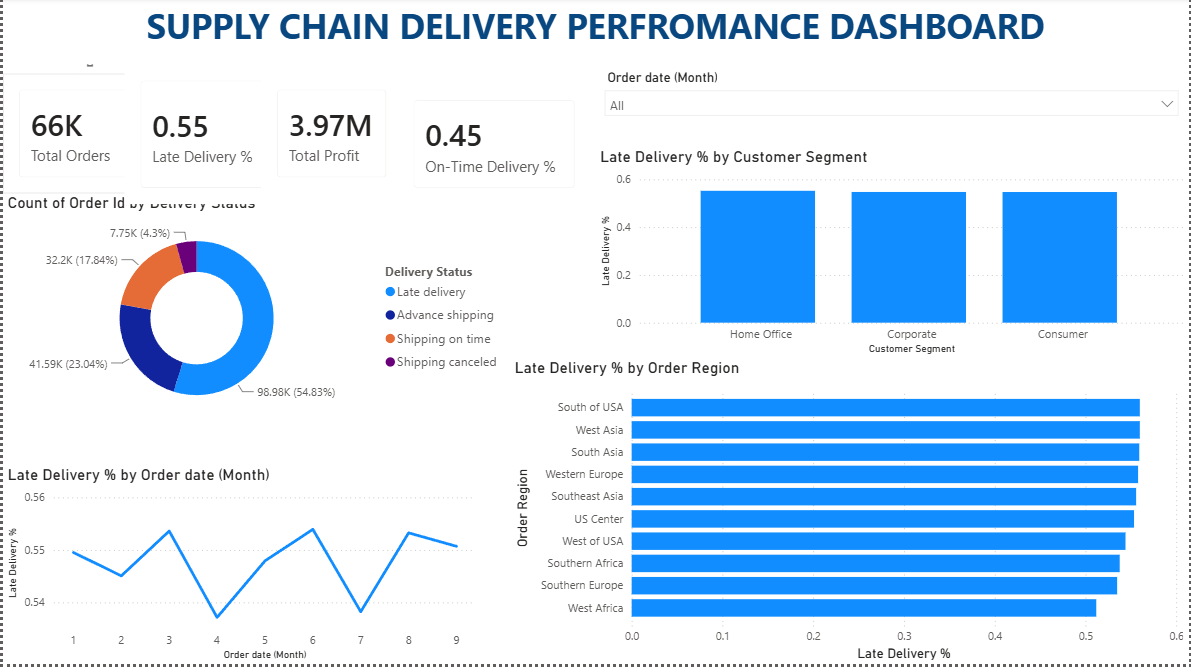

The page's visual inventory and layout, read from the dashboard file:
{"tool":"powerbi","page":{"name":"Page 1","canvas":[1280,720],"ordinal":0},"visuals":[{"type":"lineChart","fields":{"Y":["Data.Late Delivery %"],"Category":["Data.Order date (Month)"]},"box":[0,505.2,514.9,215.4],"z":0},{"type":"donutChart","fields":{"Category":["Data.Delivery Status"],"Y":["CountNonNull(Data.Order Id)"]},"box":[0,212.1,547.3,247.7],"z":1},{"type":"cardVisual","fields":{"Data":["Data.Total Orders"]},"box":[0,82.6,158.7,129.5],"z":2},{"type":"cardVisual","fields":{"Data":["Data.Late Delivery %"]},"box":[131.2,72.9,204,150.6],"z":3},{"type":"cardVisual","fields":{"Data":["Data.Total Profit"]},"box":[278.5,82.6,152.2,129.5],"z":4},{"type":"cardVisual","fields":{"Data":["Data.On-Time Delivery %"]},"box":[425.9,93.9,208.9,129.5],"z":6},{"type":"barChart","fields":{"Category":["Data.Order Region"],"Y":["Data.Late Delivery %"]},"box":[547.3,390.2,731.9,330.3],"z":7},{"type":"columnChart","fields":{"Category":["Data.Customer Segment"],"Y":["Data.Late Delivery %"]},"box":[639.6,161.9,639.6,228.3],"z":8},{"type":"slicer","fields":{"Values":["Data.Order date (Month)"]},"box":[639.6,72.9,639.6,72.9],"z":9},{"type":"textbox","box":[14.6,0,1128.6,72.9],"z":10}]}

Visuals, with their boxes in screenshot pixels (x1, y1, x2, y2), scaled from the page's 1280x720 canvas onto the 1191x667 screenshot:
lineChart - Data.Late Delivery % x Data.Order date (Month): 0 468 479 666
donutChart - Data.Delivery Status x CountNonNull(Data.Order Id): 0 196 509 426
cardVisual - Data.Total Orders: 0 77 148 196
cardVisual - Data.Late Delivery %: 122 68 312 207
cardVisual - Data.Total Profit: 259 77 401 196
cardVisual - Data.On-Time Delivery %: 396 87 591 207
barChart - Data.Order Region x Data.Late Delivery %: 509 361 1190 666
columnChart - Data.Customer Segment x Data.Late Delivery %: 595 150 1190 361
slicer - Data.Order date (Month): 595 68 1190 135
textbox: 14 0 1064 68
